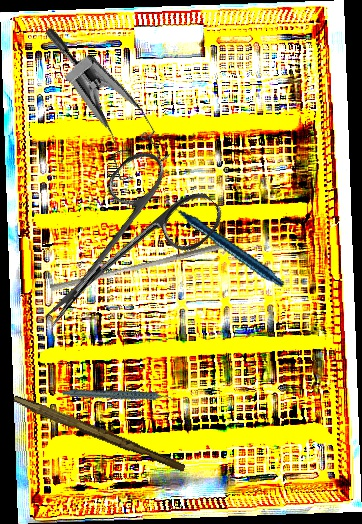Handpiece: (163, 167, 287, 313), (61, 367, 177, 426)
Iris Scissors: (8, 138, 229, 363)
Pusher: (49, 233, 231, 299)
Scalpel Handle: (10, 394, 188, 474)
Speculum: (1, 25, 191, 195)
